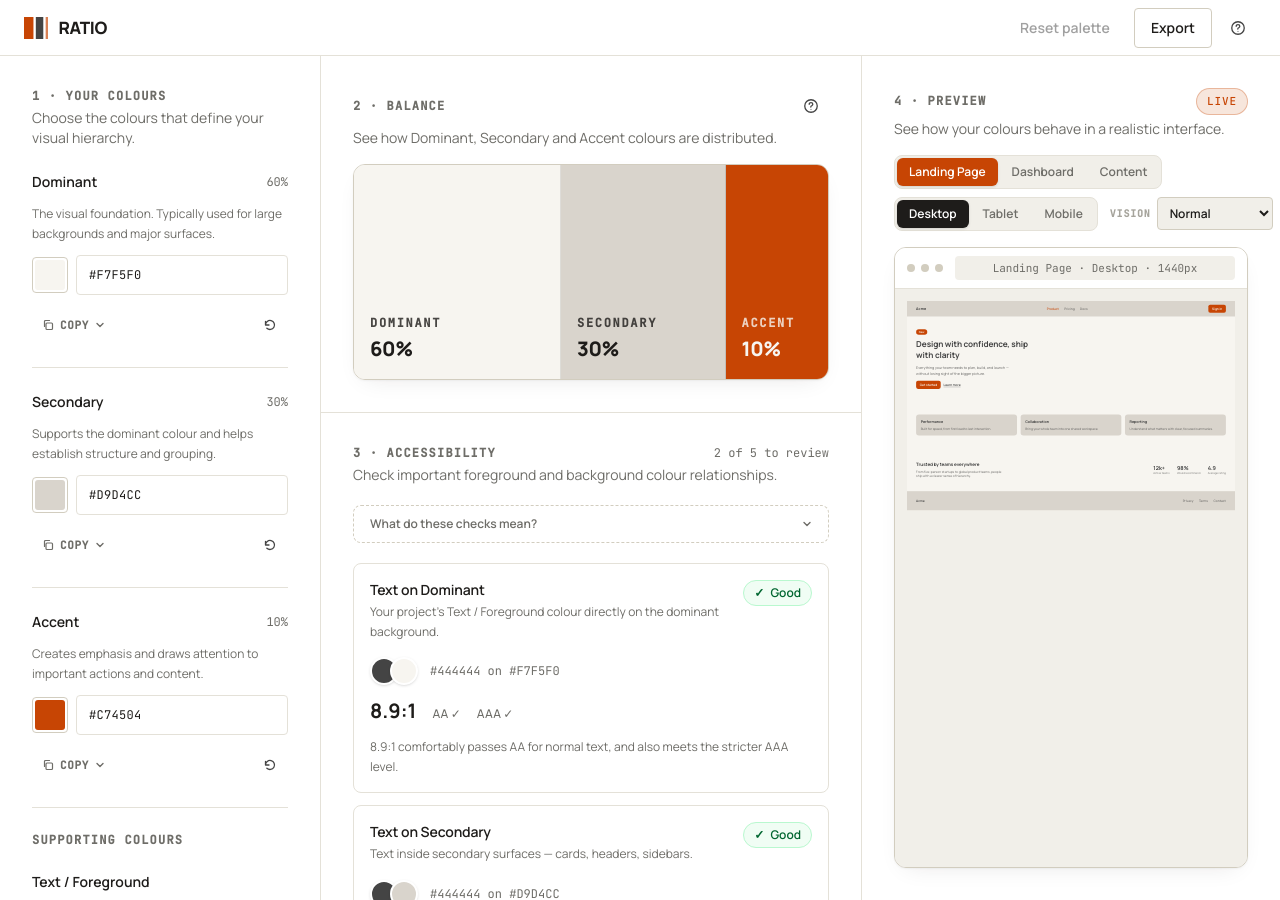
Test: WorkspaceShell › contextual feedback › announces a status message when a hex value is committed via the text input
The image size is (1280, 900).
Replace the text in the 3rd field named "Accent hex value" with "#00A86B" at (182, 715), box x1=76 y1=695 x2=288 y2=735
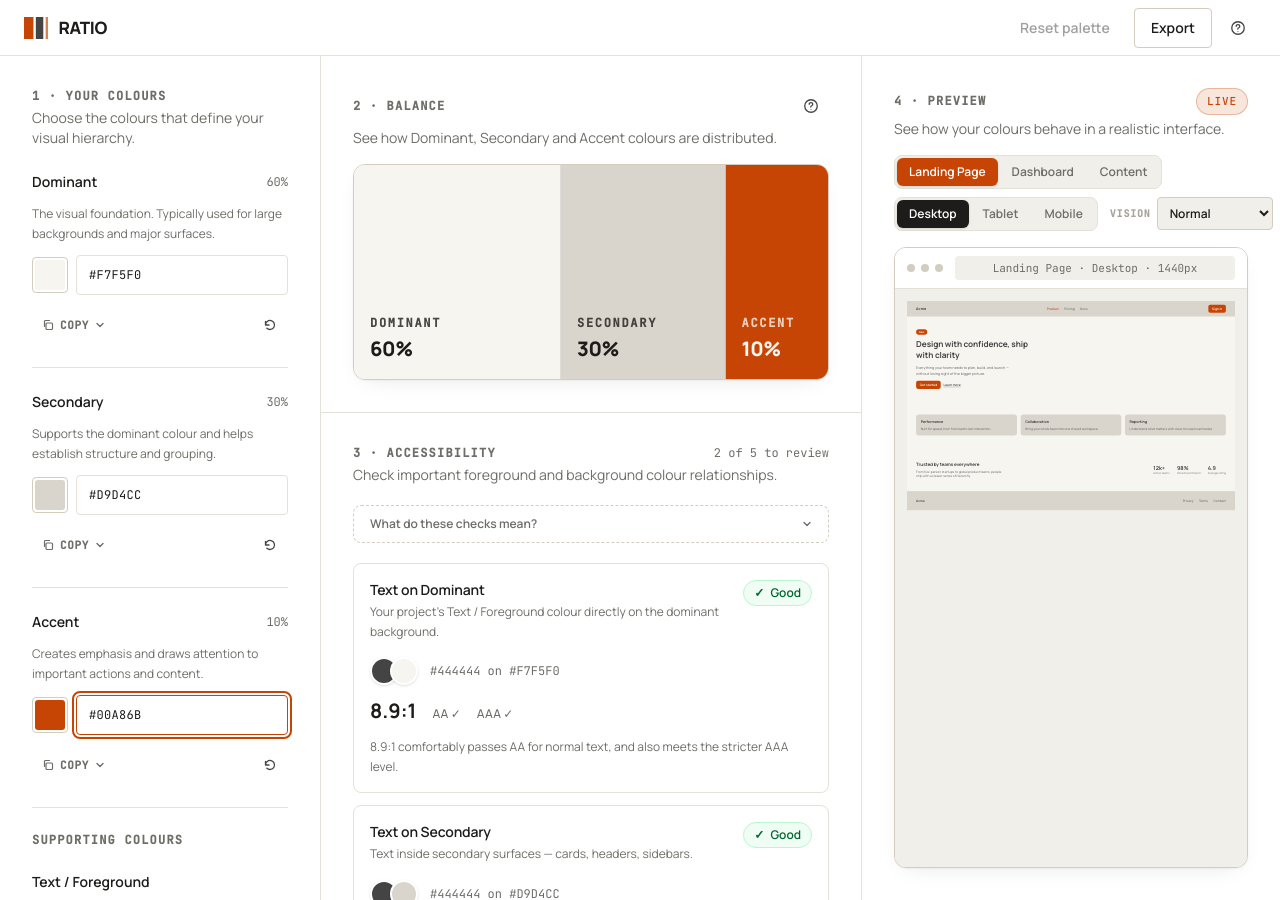
Press Tab
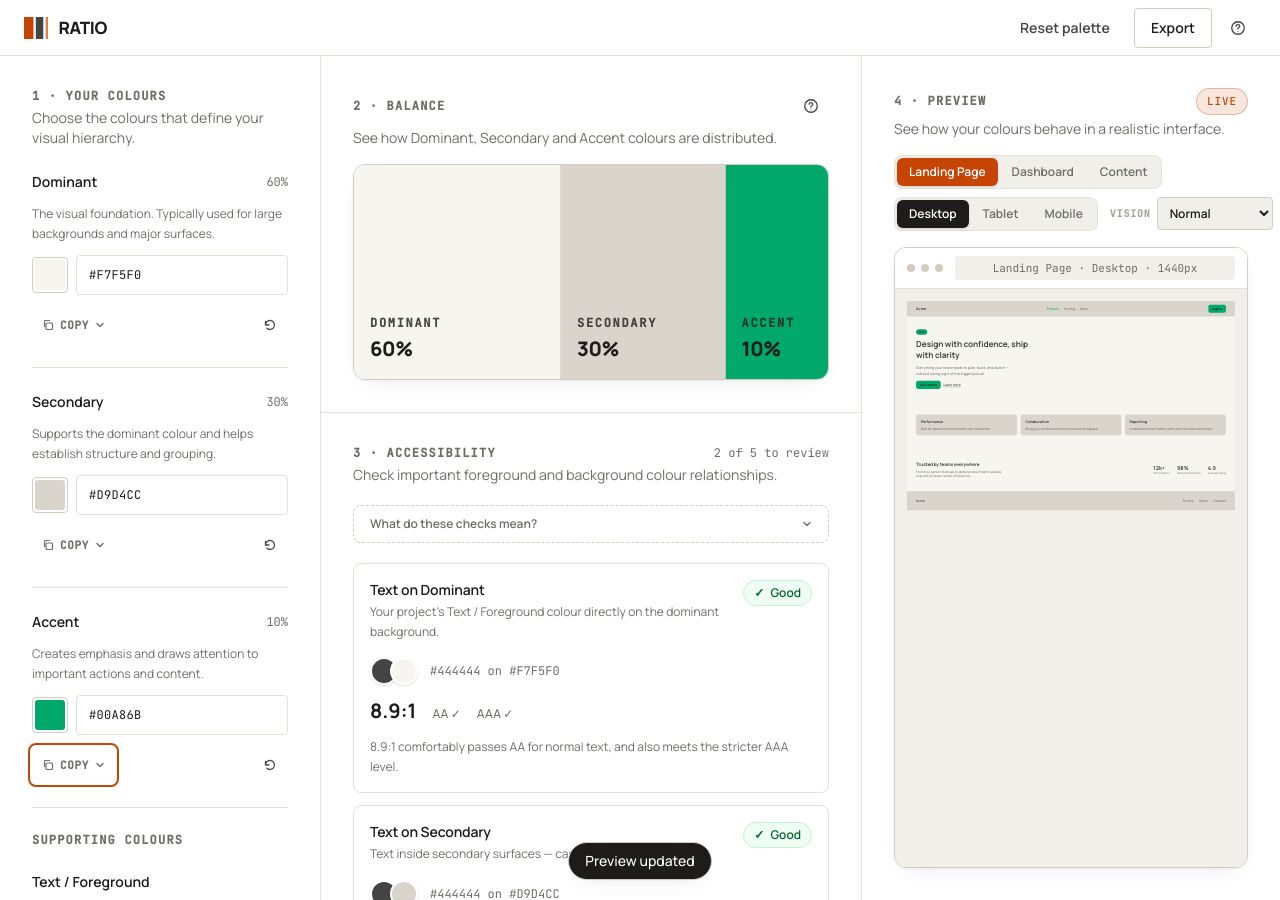
Result: the text "Preview updated" is shown at x1=568 y1=842 x2=712 y2=880
